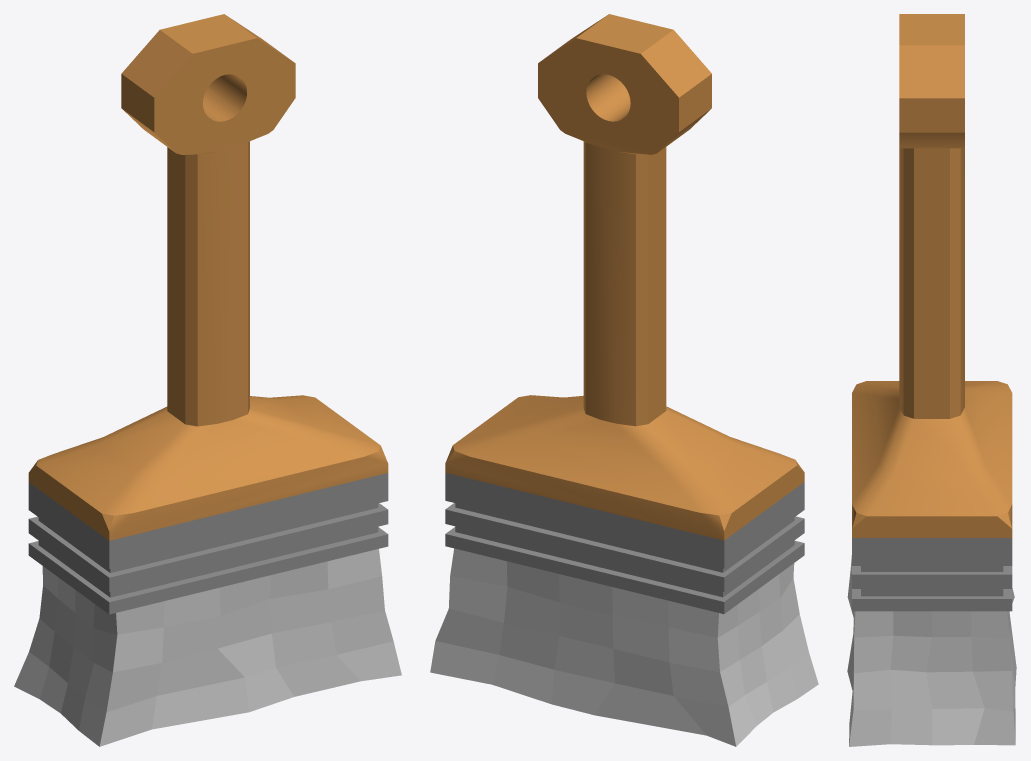
The model's file is Pinsel_6.fbx.
3 renders of one model, left to right at view 1: azimuth 30°, elevation 25°; view 2: azimuth 150°, elevation 25°; view 3: azimuth 270°, elevation 25°, orthographic.
Visible parts, largest first — view 1: Pinsel, Plane; view 2: Pinsel, Plane; view 3: Pinsel, Plane.
Part boxes in pixels (x1=…): Pinsel: x1=28, y1=14, x2=388, y2=614; Plane: x1=14, y1=549, x2=401, y2=746; Pinsel: x1=445, y1=14, x2=804, y2=613; Plane: x1=430, y1=548, x2=818, y2=746; Pinsel: x1=852, y1=14, x2=1012, y2=611; Plane: x1=847, y1=555, x2=1016, y2=746.
Bounding box in the file's own units: 219 × 444 × 106.
